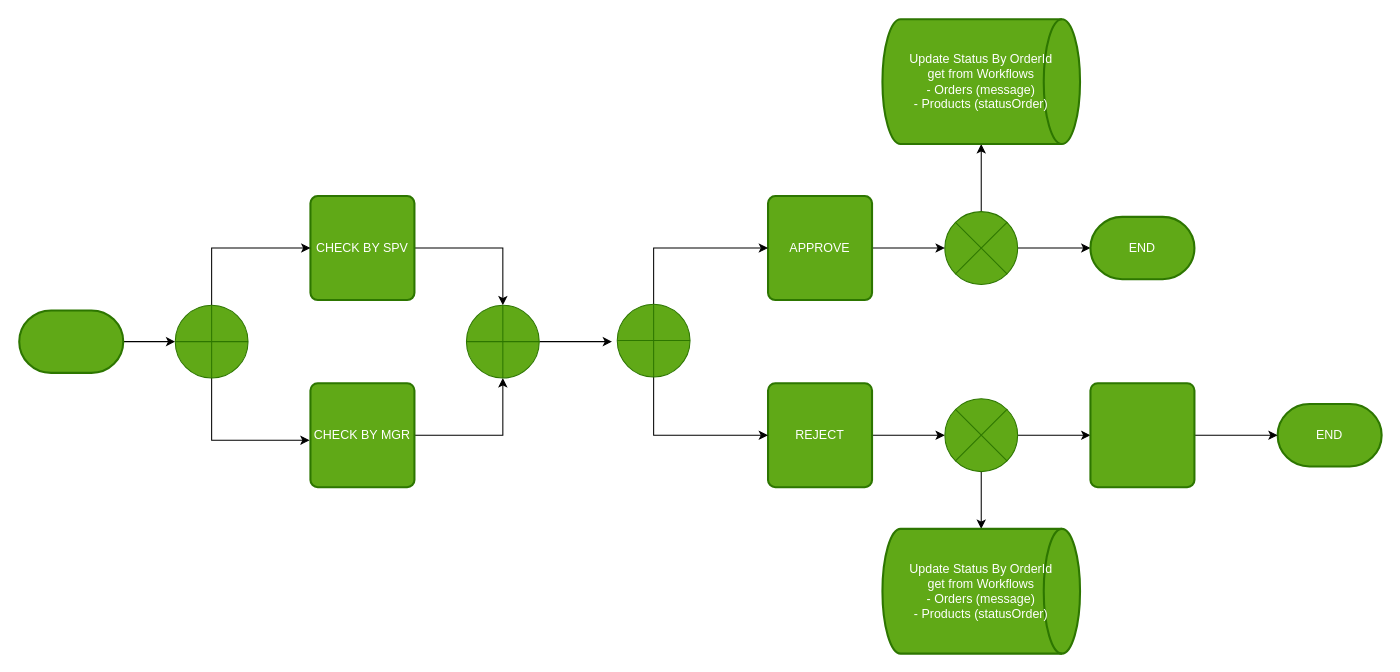
Some shapes in this 1400 by 672 pixel diagram are drawn without their labels. Here are the shapes that lost their labels. From the top down, the centre of each, then its label:
At (x=71, y=341): "START".
At (x=1142, y=435): "Modify/Cancel Order".
